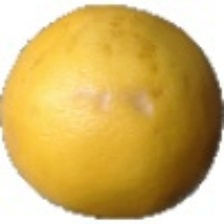grapes: (8, 53, 209, 194)
